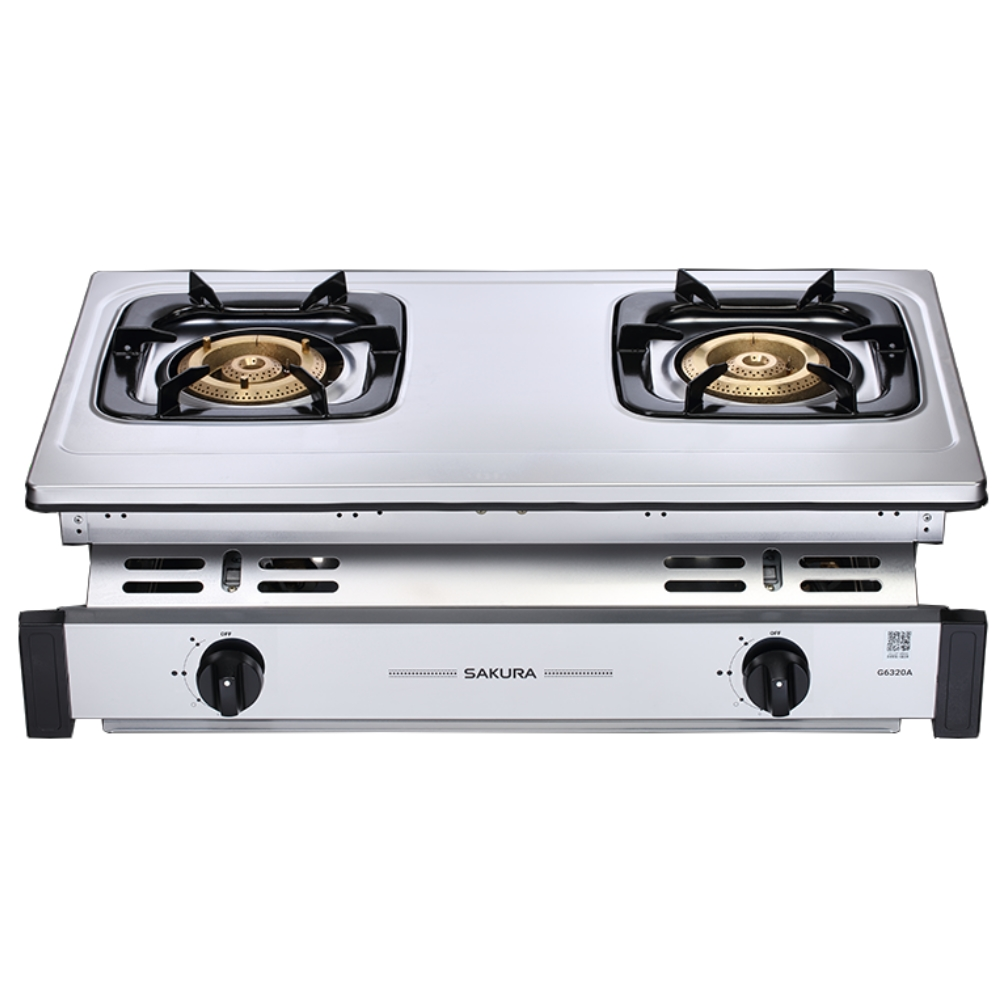gasoven: (13, 261, 997, 747)
